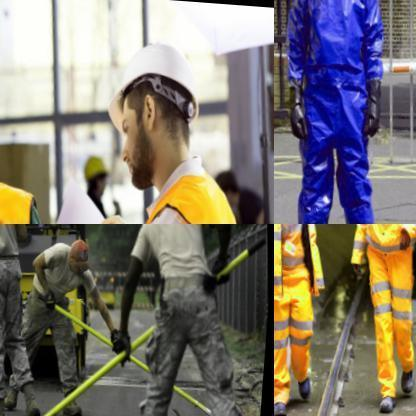vest: (274, 0, 411, 223), (122, 140, 272, 223), (274, 224, 340, 317), (340, 224, 415, 282)
